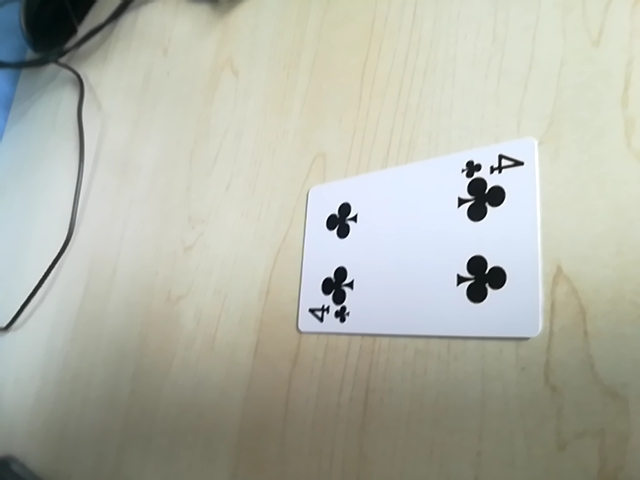mh 4: (458, 150, 527, 180), (302, 298, 353, 330)
